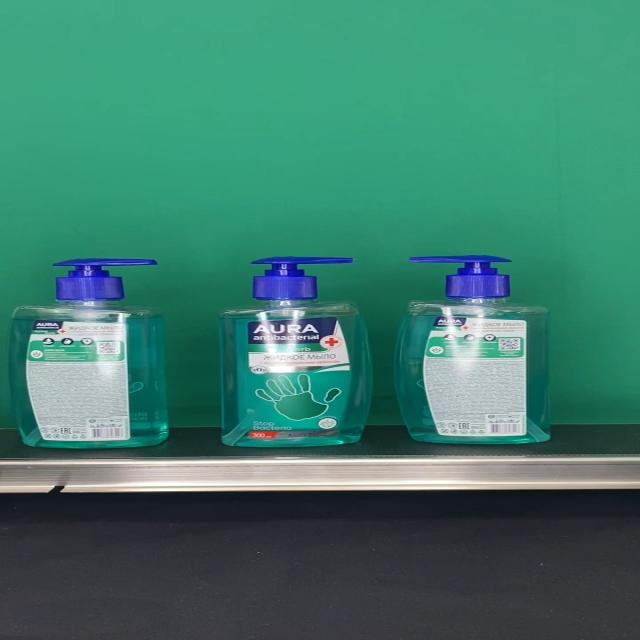Bottle: (9, 258, 168, 447), (396, 256, 551, 444), (222, 257, 373, 447)
Cap: (408, 256, 512, 299), (52, 258, 156, 300), (250, 257, 354, 299)
